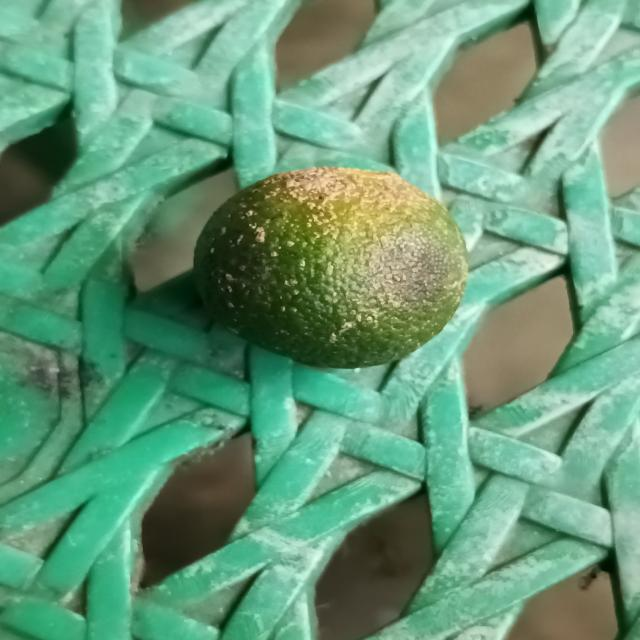scab: (188, 163, 472, 372)
